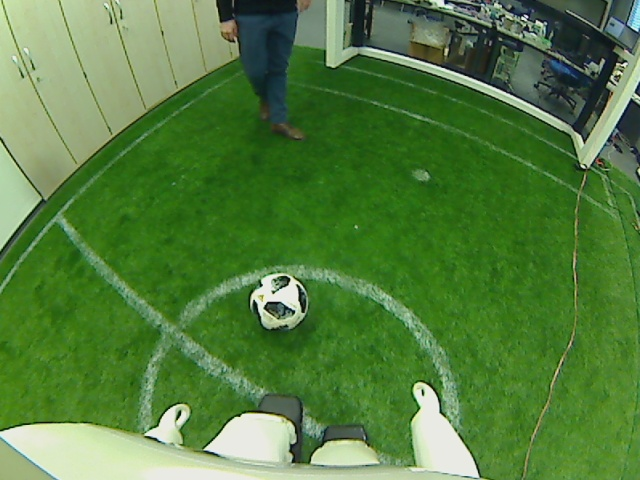ball: (247, 273, 310, 332)
